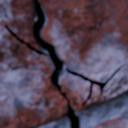broken_brick: (40, 0, 127, 110), (0, 0, 66, 127), (87, 116, 127, 127)
crack: (2, 0, 125, 127)
